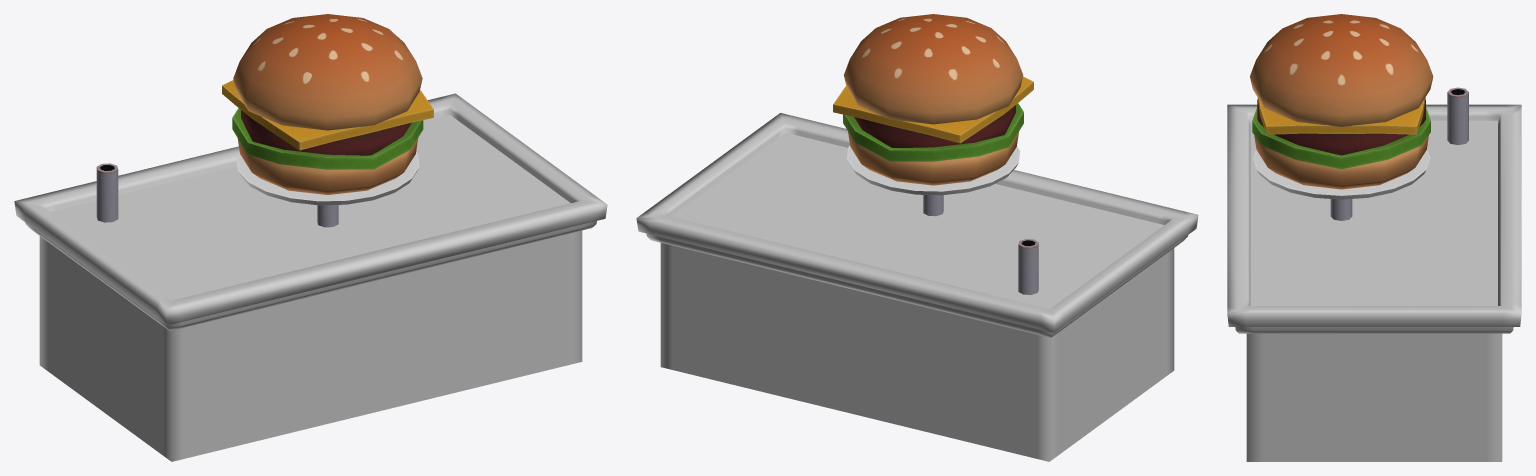
File: House_Fresh.fbx
The picture shows the model from 3 angles, left to right: view 1: azimuth 30°, elevation 25°; view 2: azimuth 150°, elevation 25°; view 3: azimuth 270°, elevation 25°; orthographic projection. The views are drawn at different scales.
Visible parts, largest first — view 1: House_Fresh, Burger, Plate; view 2: House_Fresh, Burger, Plate; view 3: House_Fresh, Burger, Plate.
Boxes of the visible parts, <box> form: House_Fresh: <box>14,93,607,461</box>; Burger: <box>222,14,433,194</box>; Plate: <box>236,153,419,205</box>; House_Fresh: <box>636,113,1198,461</box>; Burger: <box>833,14,1033,185</box>; Plate: <box>846,145,1020,195</box>; House_Fresh: <box>1227,87,1521,461</box>; Burger: <box>1250,14,1433,189</box>; Plate: <box>1252,148,1430,199</box>.
Size of the model in its own units: 361 by 274 by 215.
